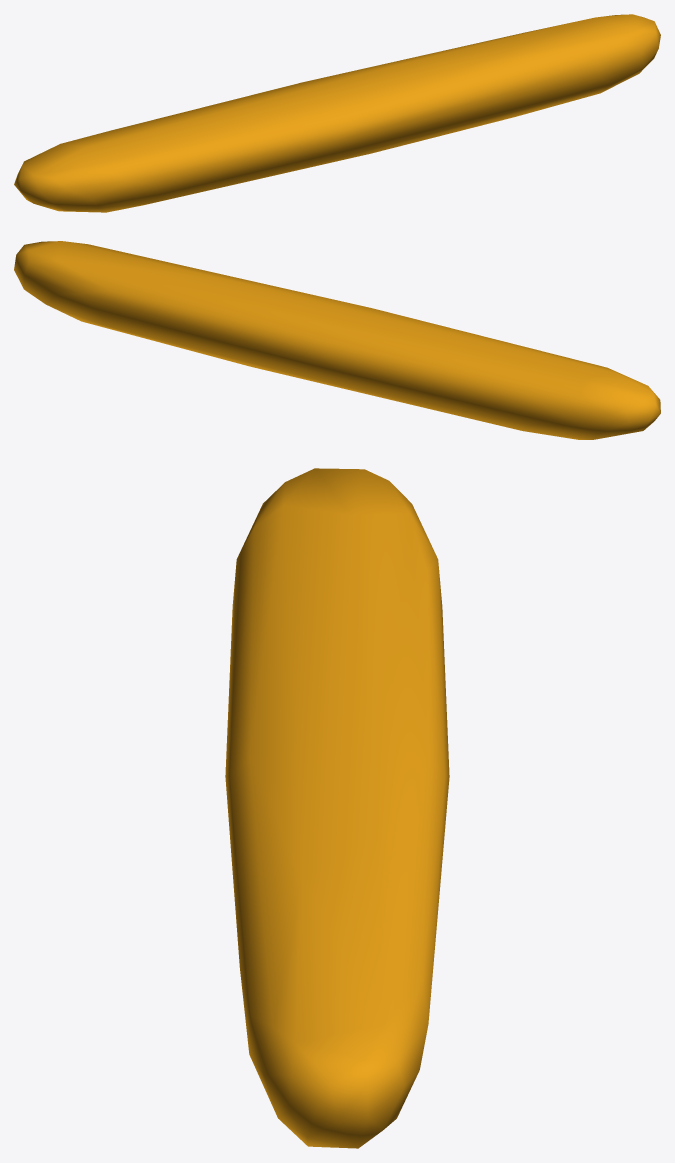
Rendered from yut-1-ricky-ray.glb.
3 renders of one model, top to bottom at view 1: azimuth 30°, elevation 25°; view 2: azimuth 150°, elevation 25°; view 3: azimuth 270°, elevation 25°, orthographic. The views are drawn at different scales.
Visible parts, largest first — view 1: Cube.001; view 2: Cube.001; view 3: Cube.001.
Part boxes in pixels (x1,y1,x2,y2): Cube.001: (14,14,660,212); Cube.001: (14,241,660,439); Cube.001: (225,468,449,1148).
Size of the model in its own units: 12.44 by 1.25 by 1.89.
